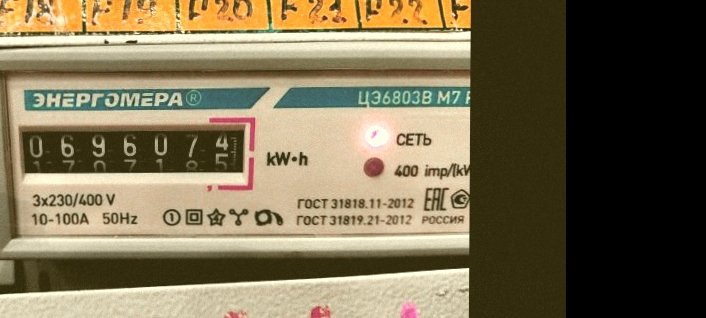0: (25, 132, 44, 157), (151, 130, 168, 156)
4: (213, 129, 228, 150)
5: (213, 151, 227, 170)
6: (56, 131, 75, 156), (120, 130, 137, 157)
7: (182, 131, 199, 157)
9: (88, 131, 106, 157)
screen: (11, 112, 258, 190)
